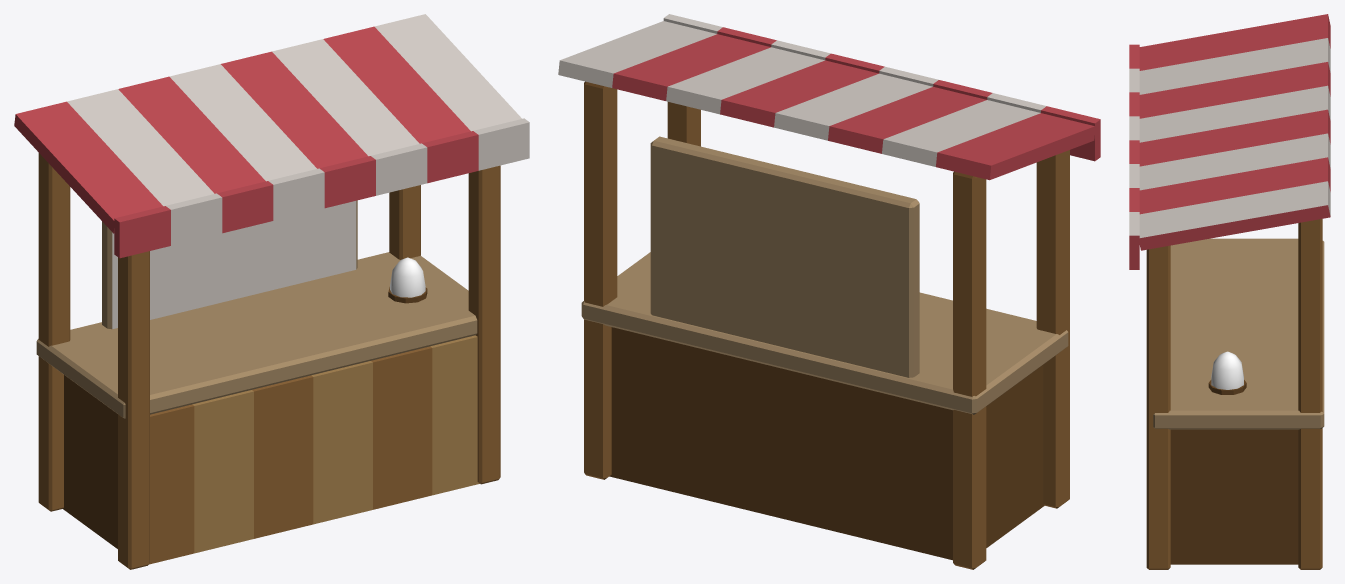
File: upgrade_kiosk.glb
3 renders of one model, left to right at view 1: azimuth 30°, elevation 25°; view 2: azimuth 150°, elevation 25°; view 3: azimuth 270°, elevation 25°, orthographic. The views are drawn at different scales.
Parts seen in each view (by area): view 1: UpgradeKiosk; view 2: UpgradeKiosk; view 3: UpgradeKiosk.
Boxes of the visible parts, left/top/right/bottom form: UpgradeKiosk: left=14, top=14, right=529, bottom=569; UpgradeKiosk: left=558, top=14, right=1100, bottom=569; UpgradeKiosk: left=1129, top=14, right=1330, bottom=569.
Size of the model in its own units: 2.62 by 2.4 by 1.17.
